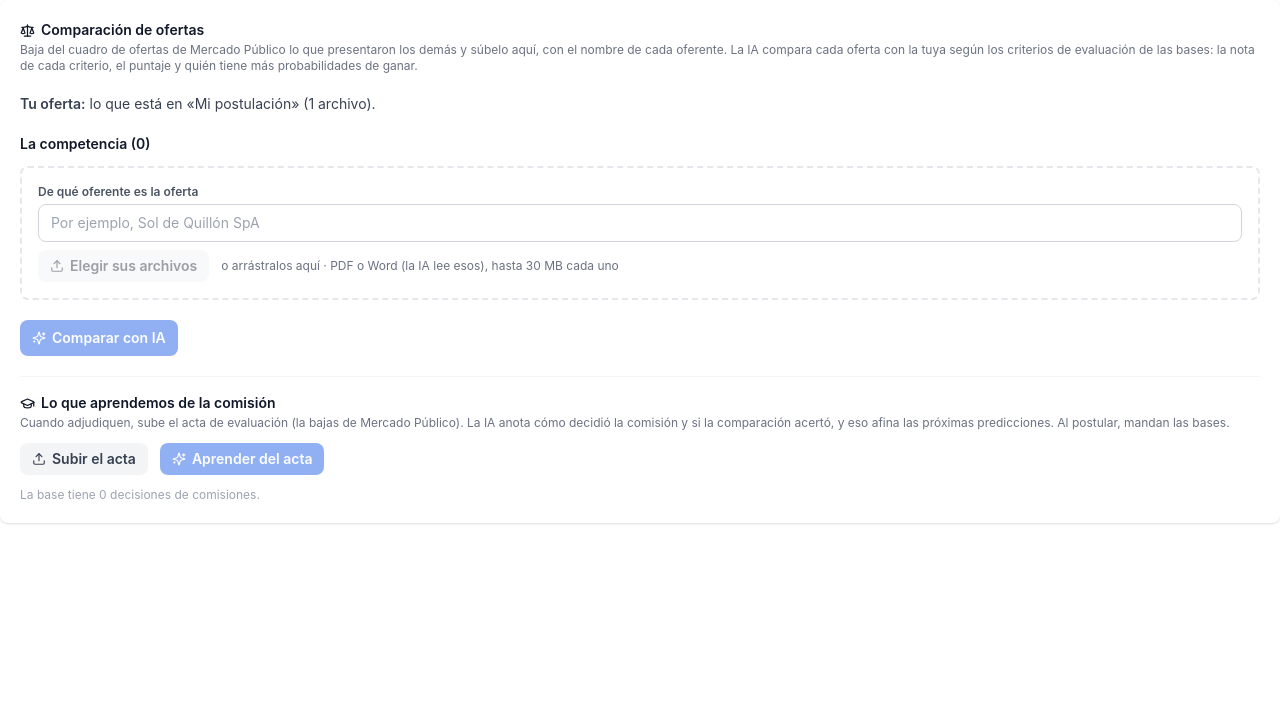
Test case: Comparación de ofertas › sin competencia no se compara; para subir hay que escribir de quién es
Check: the text "Tu oferta: lo que está en «Mi postulación» (1 archivo)." is shown, box [20,95,376,112]
Check: the button "Comparar con IA" is disabled, box [20,320,178,356]
In the field labelled "De qué oferente es la oferta": (640, 223) [38,204,1242,242], type "Sol de Quillón SpA"
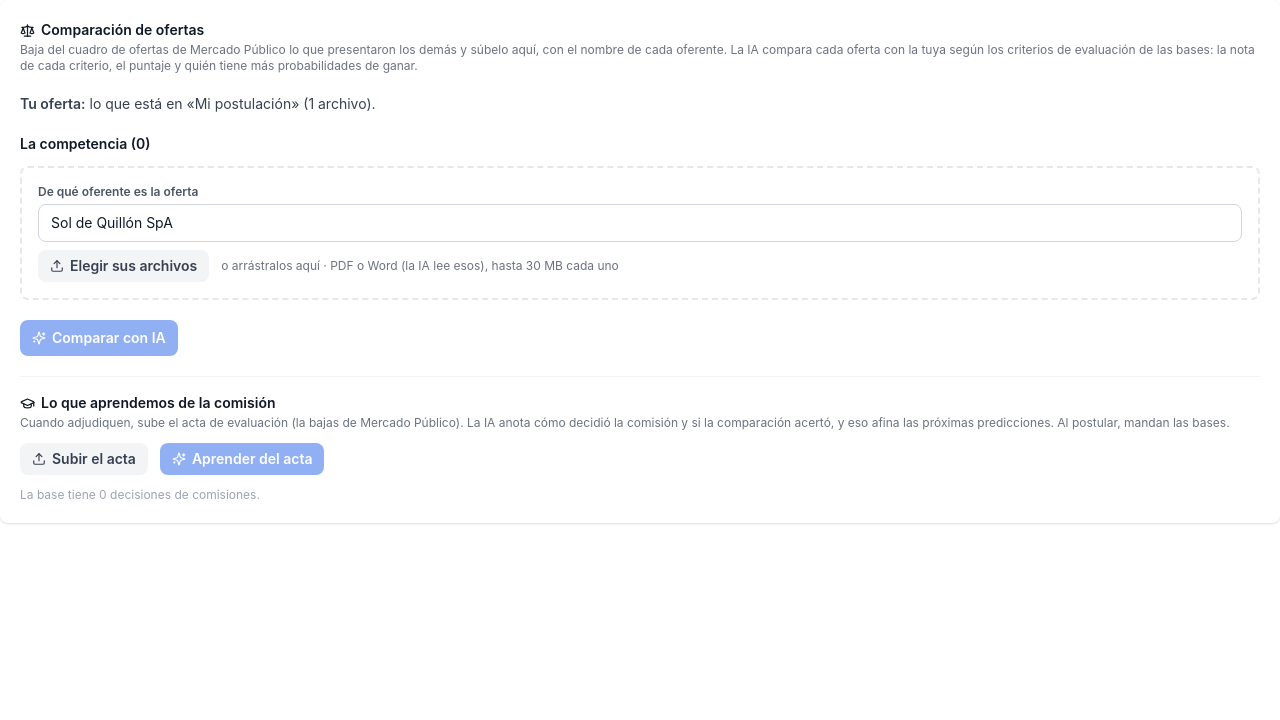
Check: the button "Elegir sus archivos" is enabled, box [38,250,209,282]
